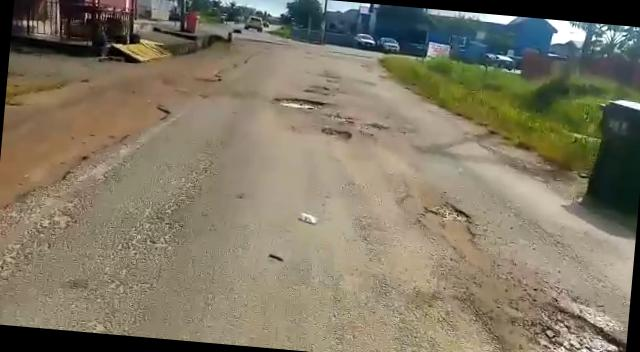pothole: (511, 287, 630, 352), (410, 201, 502, 276), (271, 95, 331, 110), (317, 124, 358, 141)
